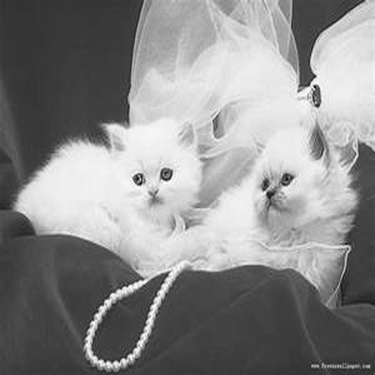cat: (144, 134, 357, 312), (8, 117, 203, 283)
